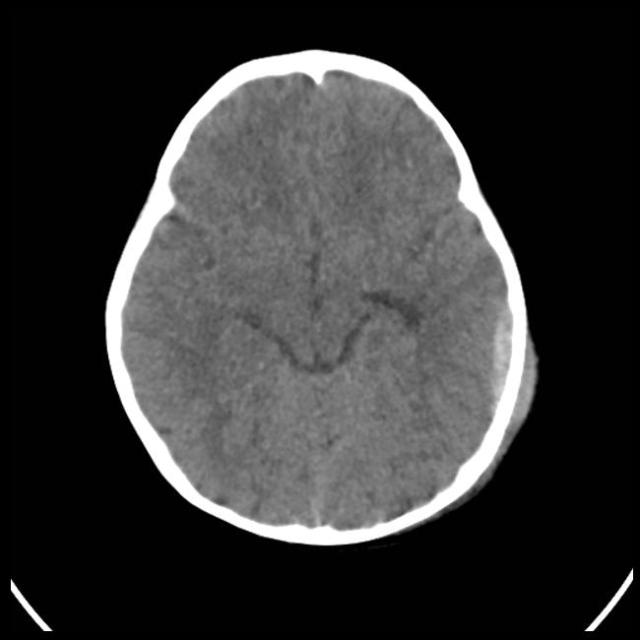lesion: (104, 50, 538, 544)
